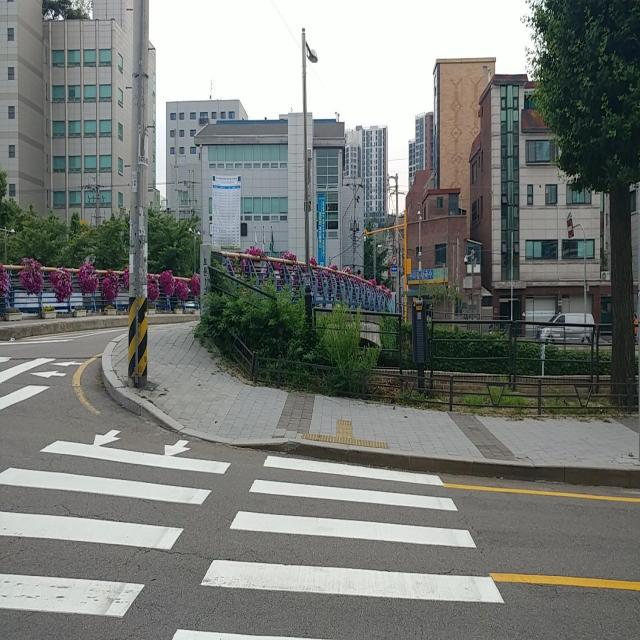횡단보도: (0, 426, 505, 640), (0, 346, 80, 409)
